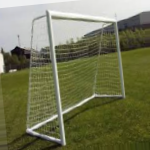goals: (26, 9, 127, 145)
